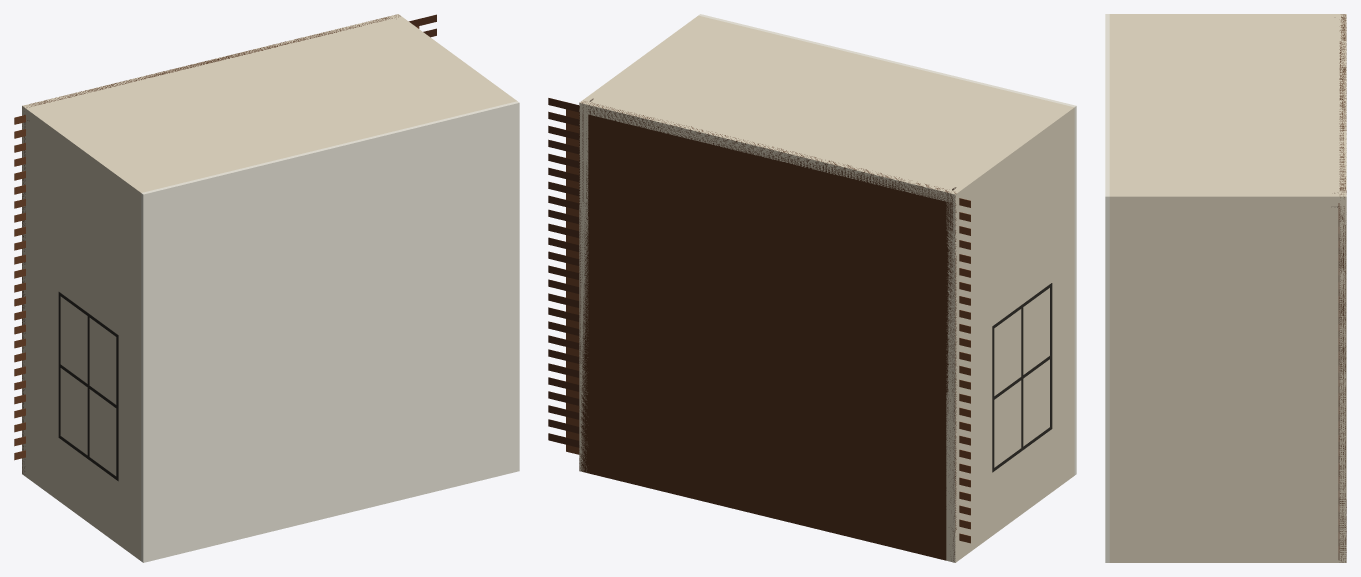
Rendered from luxury_bedroom_render.obj.
3 views of the same model, side by side, from view 1: azimuth 30°, elevation 25°; view 2: azimuth 150°, elevation 25°; view 3: azimuth 270°, elevation 25° (orthographic).
Parts seen in each view (by area): view 1: Ceiling, Warm_Ivory_Wall, Parquet_Light, Window_Frame, Walnut; view 2: Walnut, Warm_Ivory_Wall, Parquet_Dark, Parquet_Light, Ceiling, Window_Frame; view 3: Warm_Ivory_Wall, Ceiling, Walnut, Parquet_Dark.
Boxes of the visible parts, x1,y1,x2,y2 form: Ceiling: (141,101,519,562); Warm_Ivory_Wall: (22,14,517,560); Parquet_Light: (14,26,419,460); Window_Frame: (58,292,118,481); Walnut: (22,15,400,473); Walnut: (579,101,956,562); Warm_Ivory_Wall: (579,15,1074,562); Parquet_Dark: (548,98,579,447); Parquet_Light: (566,109,970,543); Ceiling: (698,14,1076,475); Window_Frame: (992,283,1052,472); Warm_Ivory_Wall: (1109,14,1346,562); Ceiling: (1105,14,1109,562); Walnut: (1339,14,1346,562); Parquet_Dark: (1338,203,1339,559).
Size of the model in its own units: 6.96 by 5.8 by 3.46.
